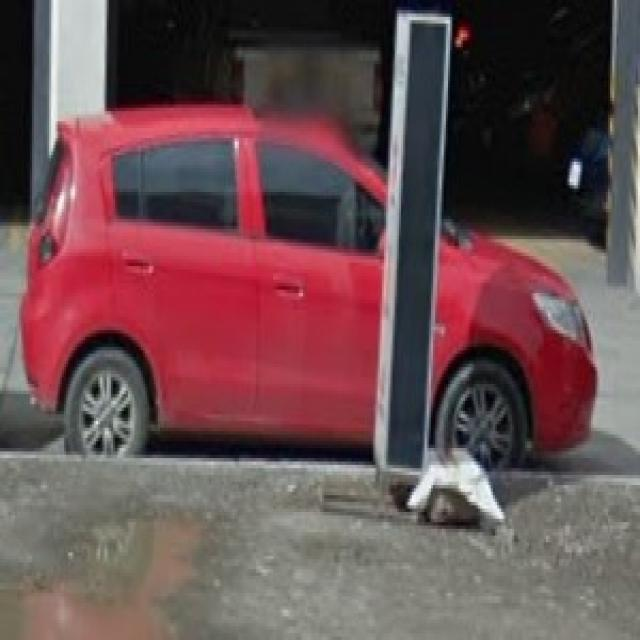truck: (22, 111, 598, 468)
